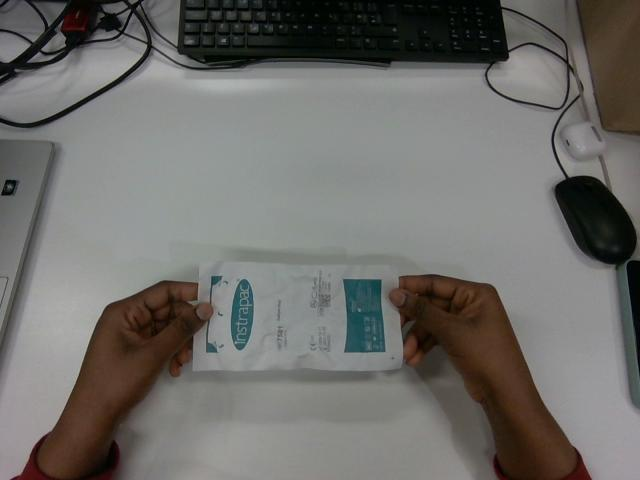gallipot: (193, 262, 402, 370)
